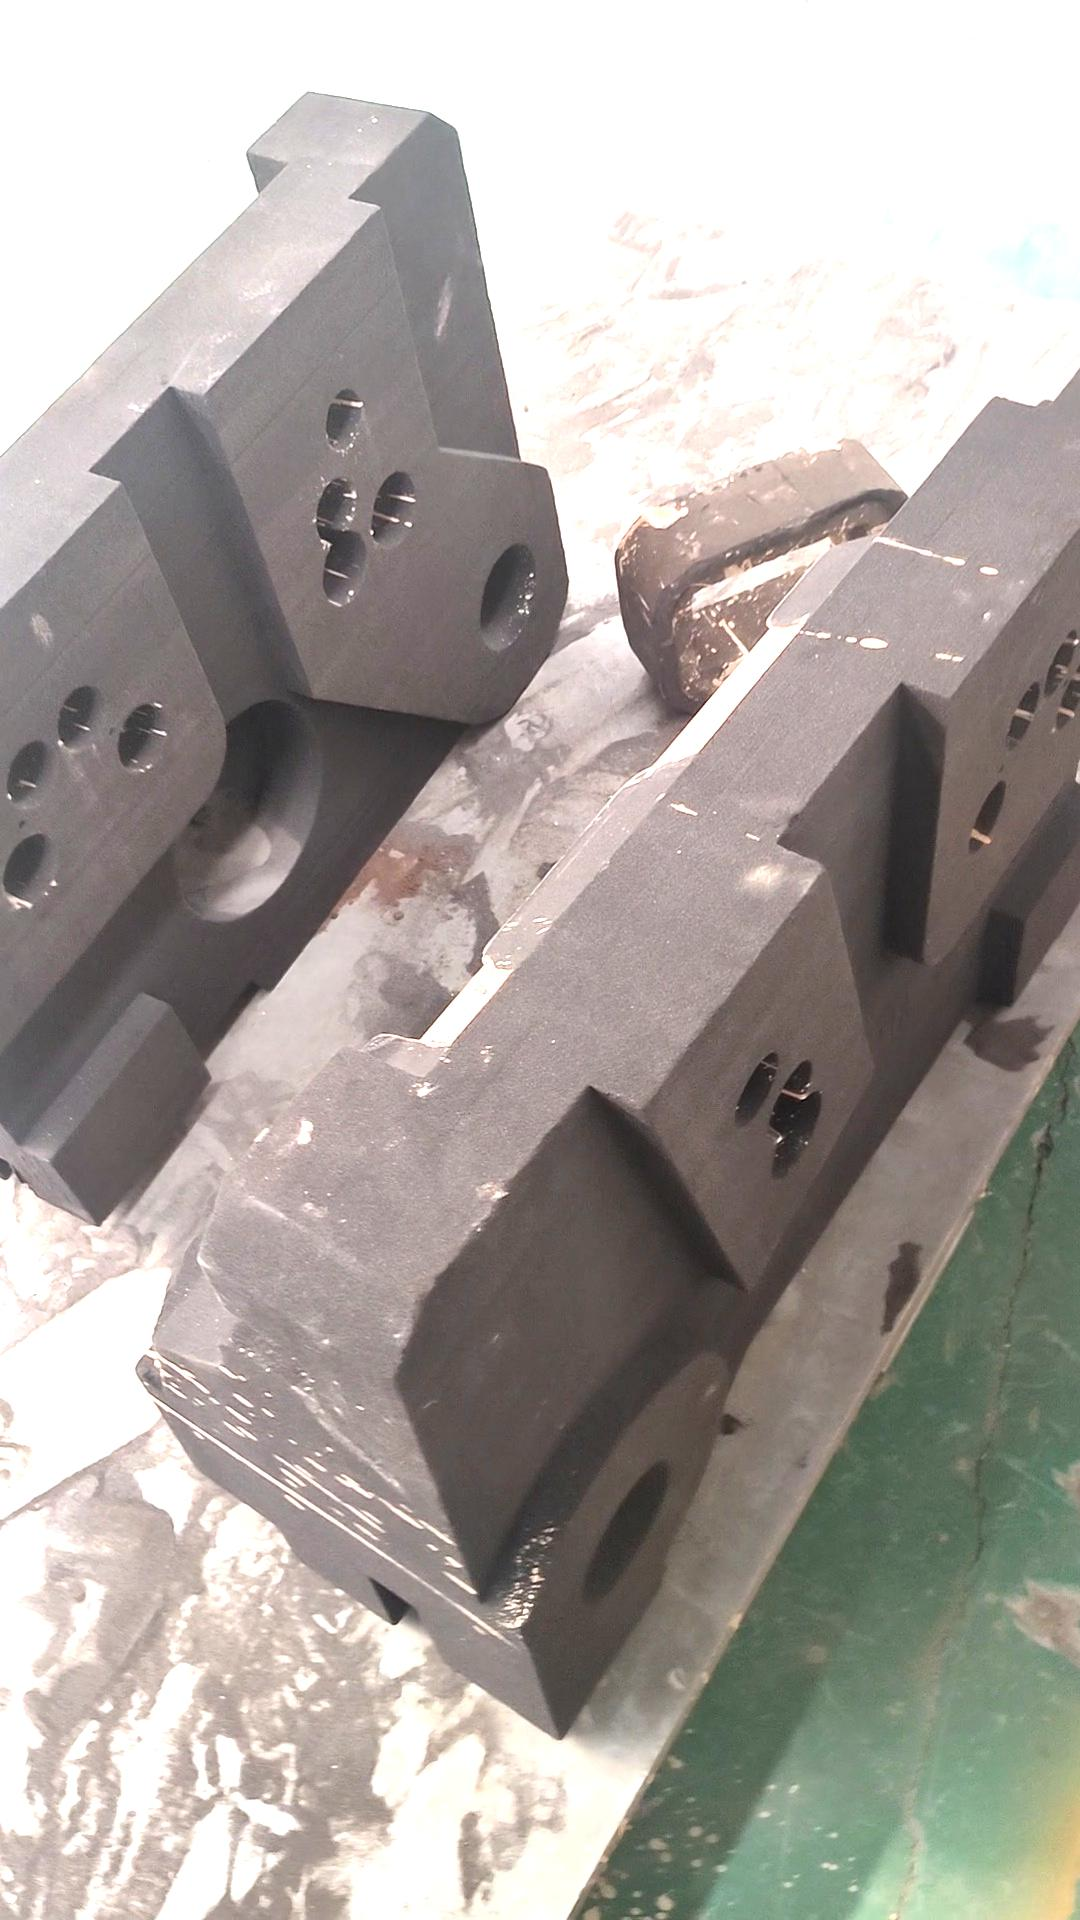pouring hole: (580, 1457, 669, 1607), (481, 543, 537, 650)
